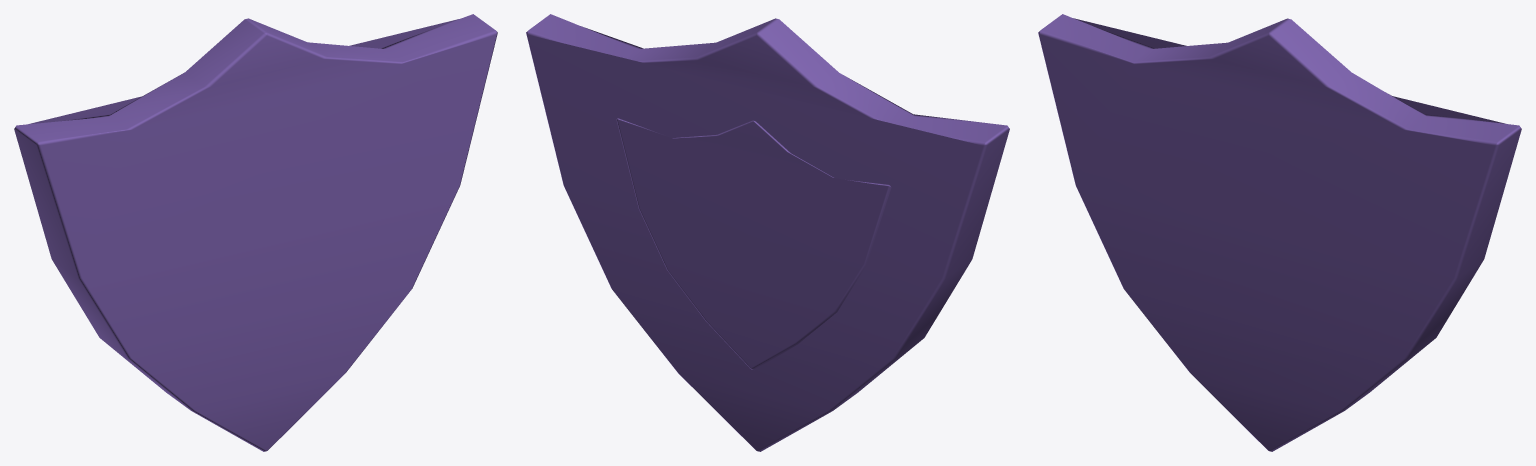
The model's file is Trophy 3.fbx.
3 renders of one model, left to right at view 1: azimuth 30°, elevation 25°; view 2: azimuth 150°, elevation 25°; view 3: azimuth 330°, elevation 25°, orthographic.
Parts seen in each view (by area): view 1: polySurface1; view 2: polySurface1, polySurface2; view 3: polySurface1.
Boxes of the visible parts, x1,y1,x2,y2 form: polySurface1: (14, 14, 497, 451); polySurface1: (526, 14, 1009, 451); polySurface2: (616, 118, 891, 370); polySurface1: (1038, 14, 1521, 451).
Bounding box in the file's own units: 217 × 188 × 26.16.
